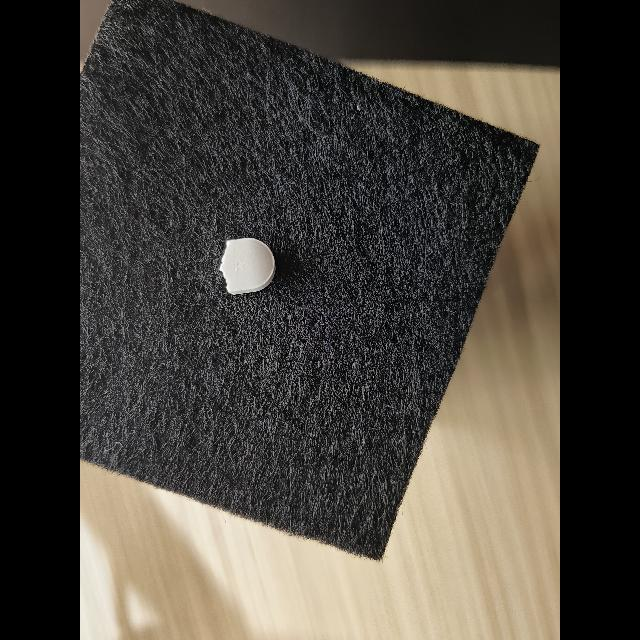Chipped Pill: (219, 238, 276, 295)
